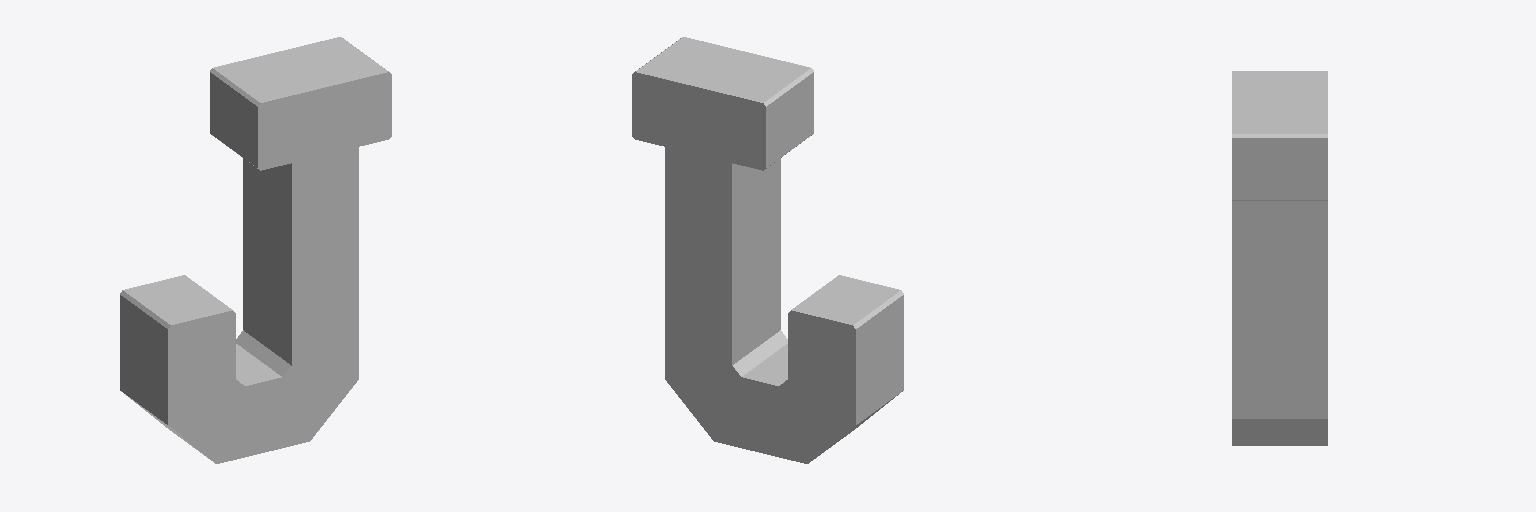
3 renders of one model, left to right at view 1: azimuth 30°, elevation 25°; view 2: azimuth 150°, elevation 25°; view 3: azimuth 270°, elevation 25°, orthographic.
Visible parts, largest first — view 1: text: ABCDEFGHIJKLMNOPQRSTUVWXYZ[number redacted]; view 2: text: ABCDEFGHIJKLMNOPQRSTUVWXYZ[number redacted]; view 3: text: ABCDEFGHIJKLMNOPQRSTUVWXYZ[number redacted].
Boxes of the visible parts, box(x1,y1,x2,y2) form: text: ABCDEFGHIJKLMNOPQRSTUVWXYZ[number redacted]: box(120, 37, 391, 463); text: ABCDEFGHIJKLMNOPQRSTUVWXYZ[number redacted]: box(632, 37, 903, 463); text: ABCDEFGHIJKLMNOPQRSTUVWXYZ[number redacted]: box(1232, 71, 1327, 445).
Size of the model in its own units: 66.95 by 100 by 25.